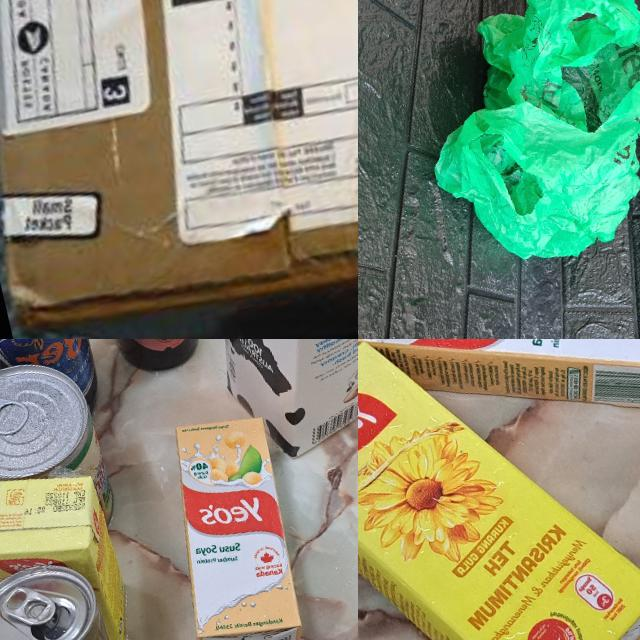aba de lata: (0, 579, 58, 635), (0, 385, 29, 441)
caixinha: (358, 339, 640, 640), (358, 339, 640, 482), (150, 408, 314, 640), (168, 339, 358, 467), (0, 456, 130, 640)
lata: (0, 351, 116, 546), (0, 546, 165, 640)
papelão: (0, 0, 358, 339)
sacola plástica: (389, 0, 640, 285)
